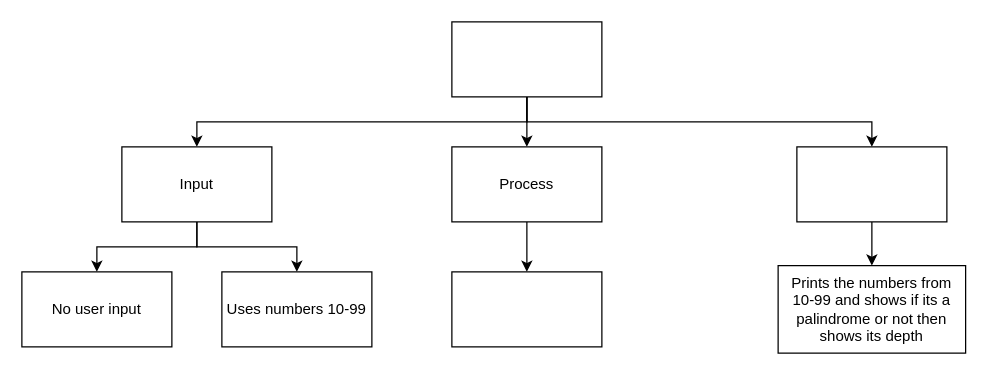
Image size: 988x375. Some labels were removed from this diagram. Each missing label, with the centre of its shape:
Checks if the number is a palindrome and its depth: the point at 526,309
Output: the point at 871,184
Palindrome: the point at 526,59
